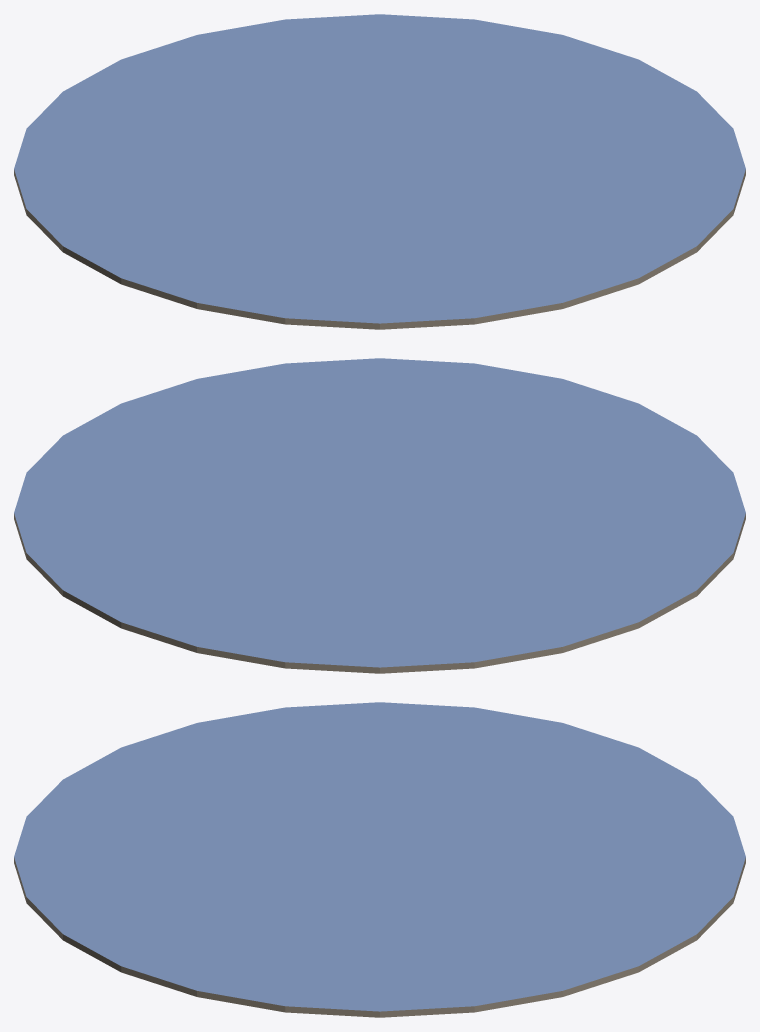
File: RugCircle.glb
3 renders of one model, top to bottom at view 1: azimuth 30°, elevation 25°; view 2: azimuth 150°, elevation 25°; view 3: azimuth 270°, elevation 25°, orthographic.
Parts seen in each view (by area): view 1: rug_circle; view 2: rug_circle; view 3: rug_circle.
Part boxes in pixels (box(x1,y1,x2,y2)): rug_circle: box(14, 14, 745, 329); rug_circle: box(14, 358, 745, 673); rug_circle: box(14, 702, 745, 1017).
Size of the model in its own units: 1.6 by 0.015 by 1.6.
